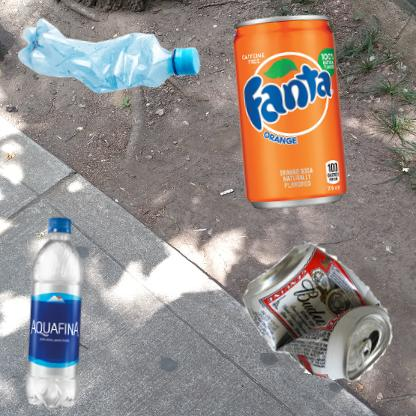botella: (10, 10, 219, 110), (10, 213, 104, 416)
lata: (213, 213, 416, 410), (213, 10, 370, 219)
